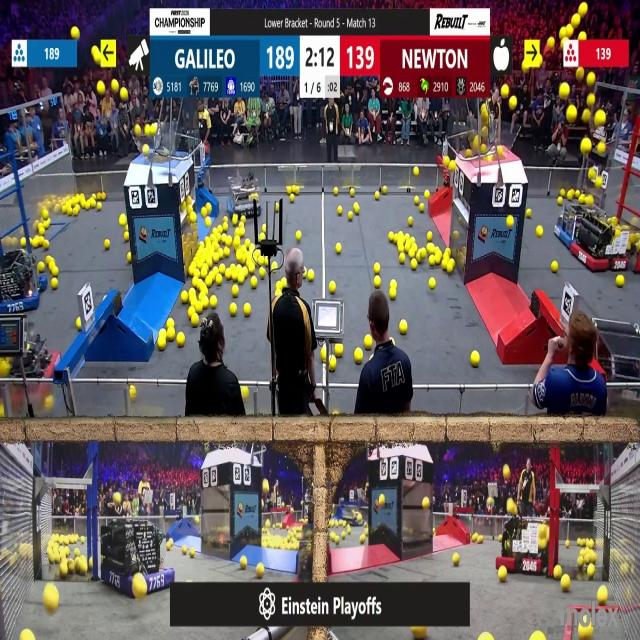ball_airborne: (566, 106, 577, 122), (560, 84, 570, 100), (582, 138, 592, 153), (595, 111, 605, 125), (264, 480, 272, 496), (575, 68, 584, 81), (98, 82, 106, 96), (588, 72, 596, 86), (506, 498, 514, 512), (510, 97, 518, 111), (578, 2, 586, 16), (93, 50, 101, 64), (583, 109, 591, 122), (119, 89, 127, 102), (502, 464, 509, 478), (500, 87, 508, 99), (71, 28, 79, 40), (496, 145, 504, 157), (571, 14, 579, 26), (523, 61, 531, 73), (566, 26, 573, 39), (597, 142, 605, 153), (588, 95, 596, 106), (113, 492, 121, 503), (111, 80, 118, 92), (546, 38, 554, 48), (589, 169, 596, 180), (587, 196, 594, 207), (150, 122, 157, 133), (143, 144, 149, 156), (482, 104, 488, 116), (578, 32, 585, 42), (135, 125, 141, 136), (145, 125, 151, 136), (445, 157, 451, 168), (596, 177, 602, 187), (488, 496, 494, 506), (481, 144, 487, 153), (466, 149, 471, 158), (482, 128, 487, 135)
ball_ground: (47, 585, 60, 610), (134, 578, 146, 599), (598, 587, 608, 605), (561, 575, 570, 591), (78, 558, 87, 574), (470, 351, 478, 366), (498, 567, 506, 582), (130, 384, 138, 399), (177, 334, 185, 348), (256, 563, 264, 577), (354, 348, 362, 362), (364, 337, 372, 351), (320, 348, 328, 362), (60, 563, 68, 577), (23, 630, 34, 640), (336, 344, 344, 357), (328, 357, 336, 370), (242, 386, 250, 399), (44, 396, 52, 409), (399, 320, 406, 334), (588, 564, 595, 578), (159, 339, 167, 351), (452, 554, 460, 566), (422, 497, 430, 509), (328, 281, 335, 294), (618, 276, 626, 287), (167, 328, 175, 339), (233, 284, 240, 296), (244, 305, 251, 317), (231, 305, 238, 317), (555, 566, 562, 578), (203, 296, 210, 308), (50, 268, 58, 278), (200, 269, 208, 279), (212, 252, 220, 262), (419, 249, 427, 259), (448, 261, 454, 274), (50, 278, 57, 289), (210, 296, 217, 307), (190, 315, 197, 326), (389, 288, 396, 299), (258, 268, 265, 279), (194, 303, 201, 314), (532, 633, 543, 640), (237, 251, 244, 262), (375, 276, 381, 288), (76, 318, 82, 330), (181, 290, 187, 302), (481, 634, 493, 640), (202, 286, 210, 295), (380, 494, 386, 506), (552, 263, 559, 273), (398, 252, 405, 262), (374, 265, 381, 275), (118, 215, 125, 225), (428, 254, 435, 264), (248, 265, 255, 275), (233, 215, 240, 225), (187, 267, 194, 277), (190, 278, 197, 288), (410, 248, 417, 258), (251, 277, 257, 288), (309, 271, 315, 282), (241, 557, 247, 568), (536, 225, 542, 236), (428, 244, 434, 255), (434, 253, 440, 264), (388, 233, 395, 242), (32, 239, 39, 248), (188, 288, 195, 297), (412, 261, 418, 271), (104, 240, 110, 250), (337, 244, 343, 254), (429, 279, 435, 289), (19, 238, 25, 248), (38, 264, 44, 274), (216, 276, 222, 286), (354, 204, 360, 214), (223, 247, 229, 257), (189, 549, 195, 559), (239, 274, 245, 284), (235, 236, 241, 246), (225, 271, 231, 281), (442, 262, 448, 272), (206, 216, 212, 226), (225, 236, 231, 246), (206, 277, 212, 287), (167, 539, 173, 549), (80, 199, 86, 209), (276, 281, 283, 289), (408, 235, 415, 243), (43, 240, 49, 249), (272, 263, 278, 272), (97, 202, 103, 211), (258, 234, 264, 243), (526, 209, 532, 218), (419, 204, 425, 213), (202, 208, 208, 217), (576, 558, 582, 567), (189, 213, 195, 222), (233, 272, 239, 281), (244, 238, 250, 247), (73, 207, 79, 216), (161, 328, 167, 337), (258, 255, 264, 264), (445, 248, 451, 257), (0, 407, 4, 420), (295, 232, 300, 242), (128, 252, 133, 262), (409, 216, 414, 226), (222, 222, 227, 232), (168, 319, 174, 327), (338, 207, 344, 215), (390, 280, 396, 288), (348, 212, 354, 220), (218, 266, 224, 274), (350, 188, 356, 196), (558, 198, 564, 206), (414, 168, 420, 176), (92, 200, 98, 208), (474, 537, 480, 545), (397, 232, 403, 240), (335, 187, 341, 195), (451, 231, 457, 239), (427, 233, 432, 242), (123, 233, 128, 242), (90, 558, 95, 567), (254, 249, 260, 256), (276, 289, 282, 296), (479, 535, 485, 542), (282, 279, 286, 289), (360, 535, 365, 543), (289, 193, 294, 201), (342, 534, 347, 542), (99, 194, 104, 202), (263, 223, 268, 231), (241, 216, 246, 224), (240, 228, 244, 238), (383, 186, 388, 194), (398, 244, 403, 252), (207, 204, 212, 212), (276, 204, 280, 213), (415, 195, 420, 202), (185, 547, 190, 554), (39, 227, 44, 234), (425, 190, 429, 198), (376, 191, 380, 199), (75, 549, 79, 557), (560, 188, 564, 196), (265, 255, 269, 263), (232, 265, 237, 271), (223, 216, 227, 223), (123, 224, 127, 230)
goal: (466, 122, 520, 160), (138, 128, 187, 160)
robot_blue: (100, 521, 176, 597), (0, 243, 41, 314), (556, 194, 602, 242), (230, 173, 263, 218)
robot_red: (576, 212, 638, 272), (498, 514, 551, 574)
